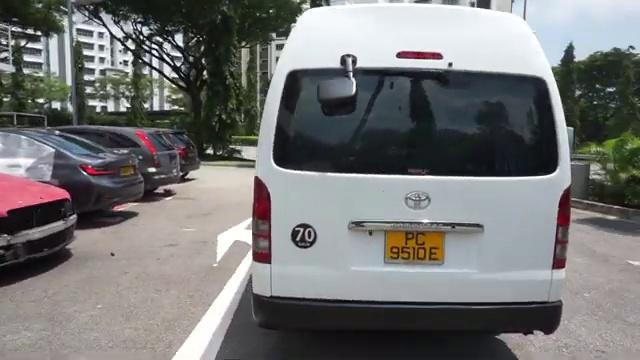Van: (228, 2, 586, 350)
